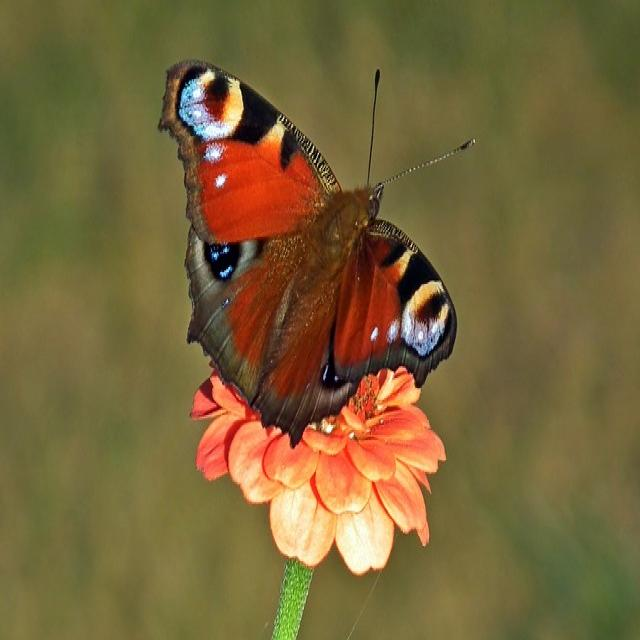butterfly: (160, 61, 456, 444)
